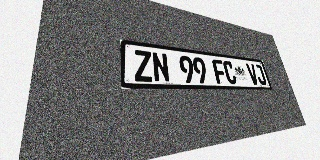9: (178, 55, 196, 83), (192, 57, 209, 83)
C: (222, 60, 238, 84)
F: (211, 59, 228, 84)
J: (254, 64, 267, 85)
N: (151, 52, 170, 82)
V: (246, 63, 260, 85)
Z: (133, 49, 153, 82)
